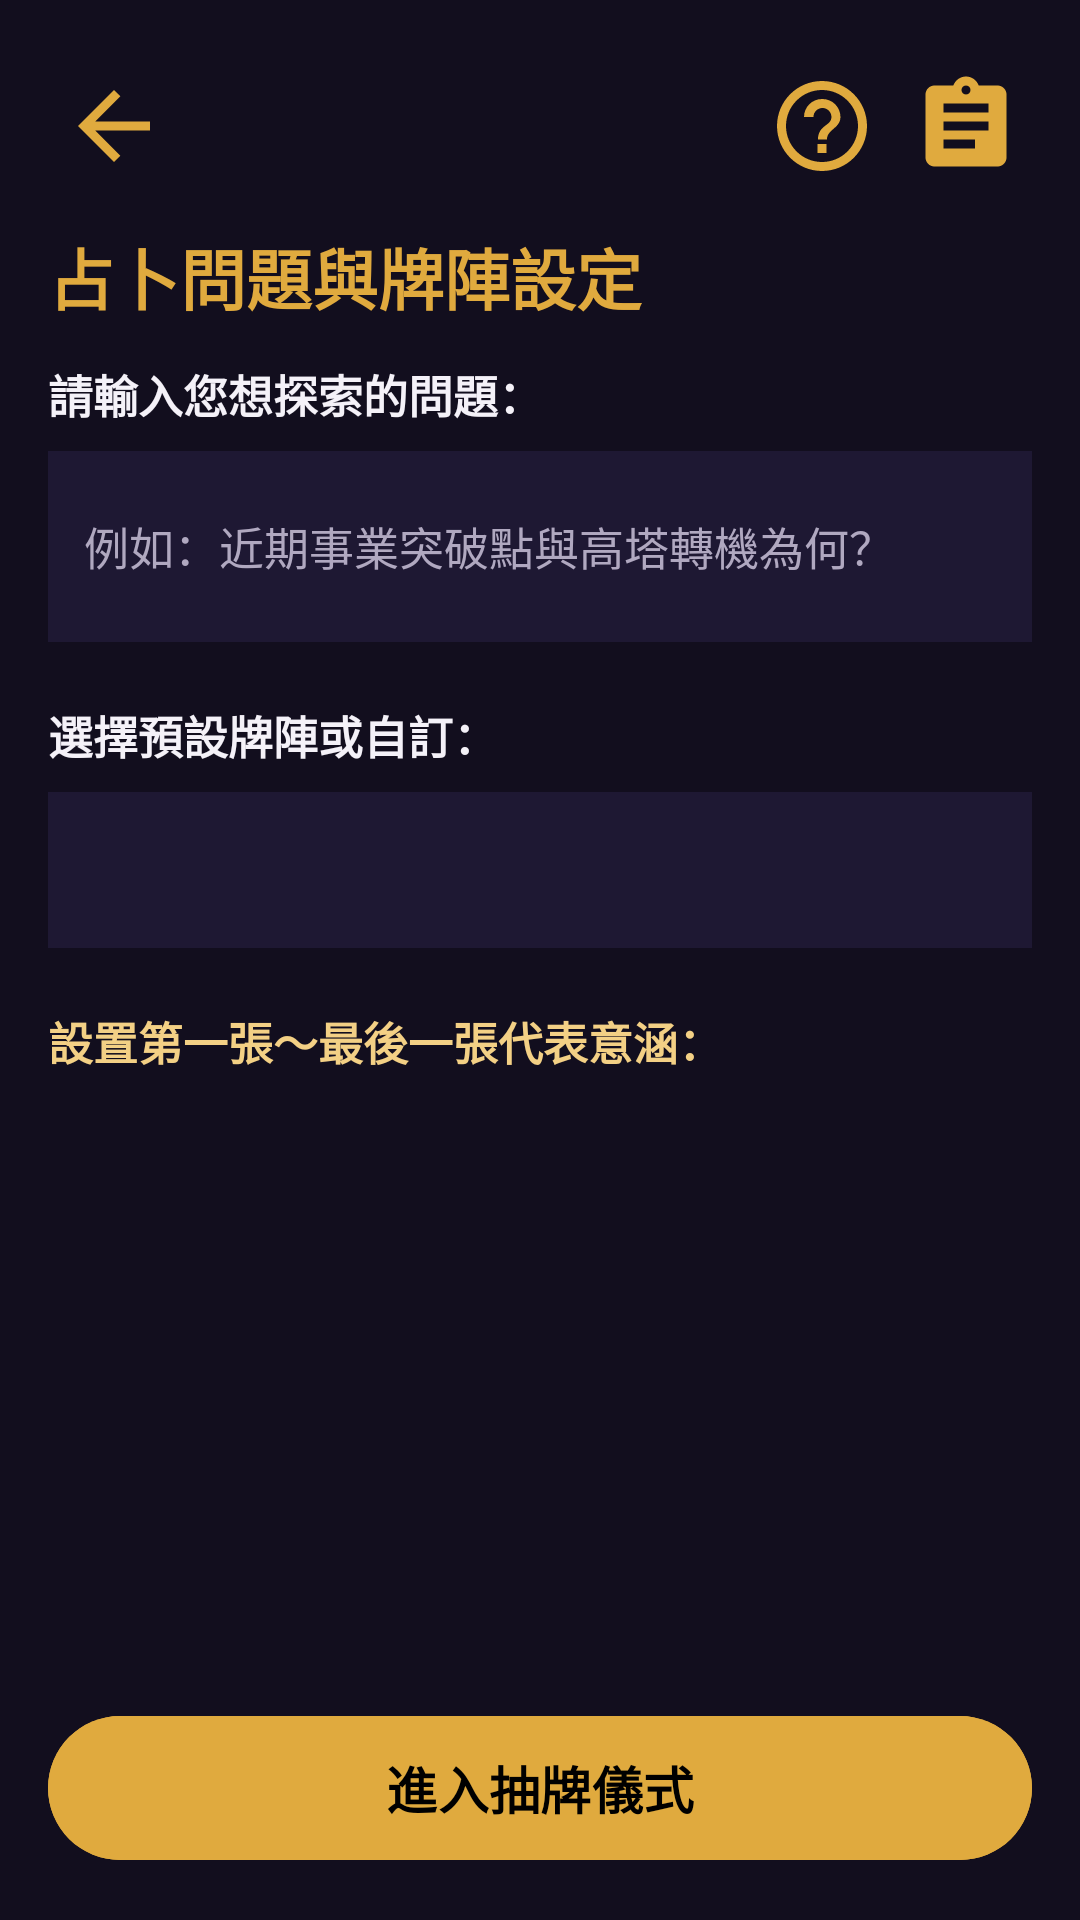

Where icons sit on this 1080px×1920px app screen, as (x1, y1, x2, y2):
使用說明: (777, 81, 867, 171)
歷史記事本: (925, 76, 1007, 167)
返回上一頁: (78, 90, 150, 162)
